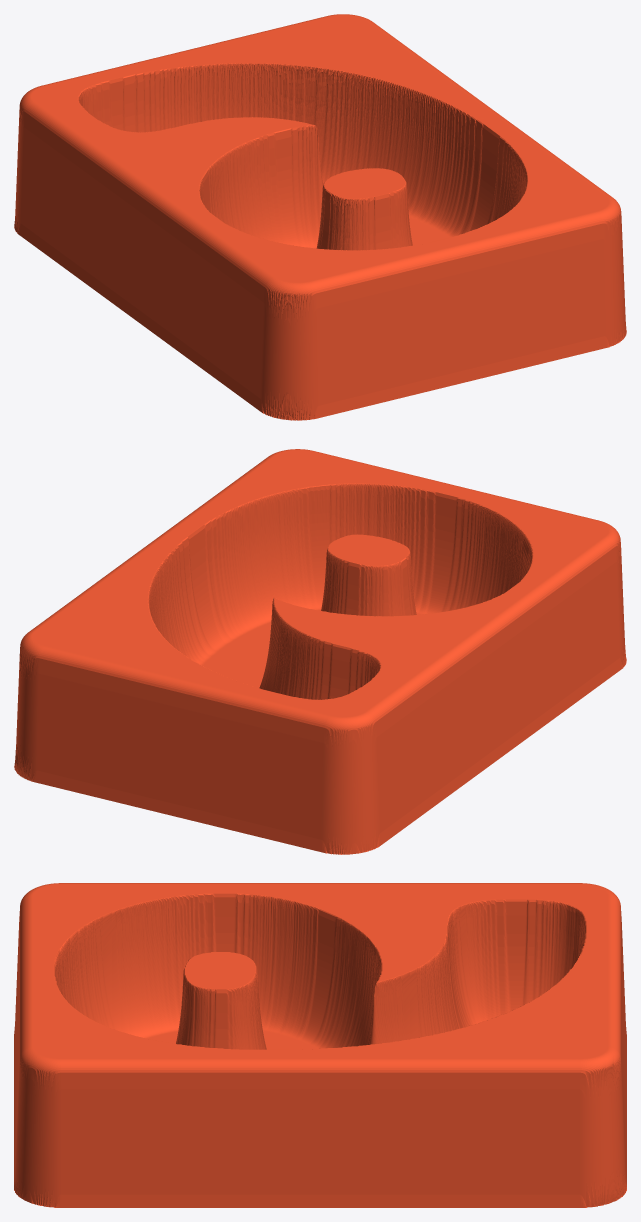
The model's file is mold.glb.
3 views of the same model, one above another, from view 1: azimuth 30°, elevation 25°; view 2: azimuth 150°, elevation 25°; view 3: azimuth 270°, elevation 25° (orthographic). The views are drawn at different scales.
Parts seen in each view (by area): view 1: geometry_0; view 2: geometry_0; view 3: geometry_0.
Part boxes in pixels (x1,y1,x2,y2): geometry_0: [14, 14, 626, 420]; geometry_0: [14, 449, 626, 854]; geometry_0: [14, 883, 626, 1207].
Bounding box in the file's own units: 0.0866 × 0.0299 × 0.1178.
